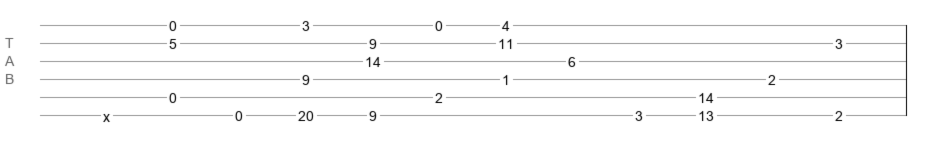0: (169, 18, 177, 28), (169, 90, 177, 100), (235, 108, 243, 118), (435, 18, 443, 28)
1: (502, 72, 510, 82)
11: (498, 36, 514, 46)
13: (698, 108, 714, 118)
14: (365, 54, 381, 64), (698, 90, 714, 100)
2: (435, 90, 443, 100), (768, 72, 776, 82), (835, 108, 843, 118)
20: (298, 108, 314, 118)
3: (302, 18, 310, 28), (635, 108, 643, 118), (835, 36, 843, 46)
4: (502, 18, 510, 28)
5: (169, 36, 177, 46)
6: (568, 54, 576, 64)
9: (302, 72, 310, 82), (369, 108, 377, 118), (369, 36, 377, 46)
x: (103, 109, 110, 117)
